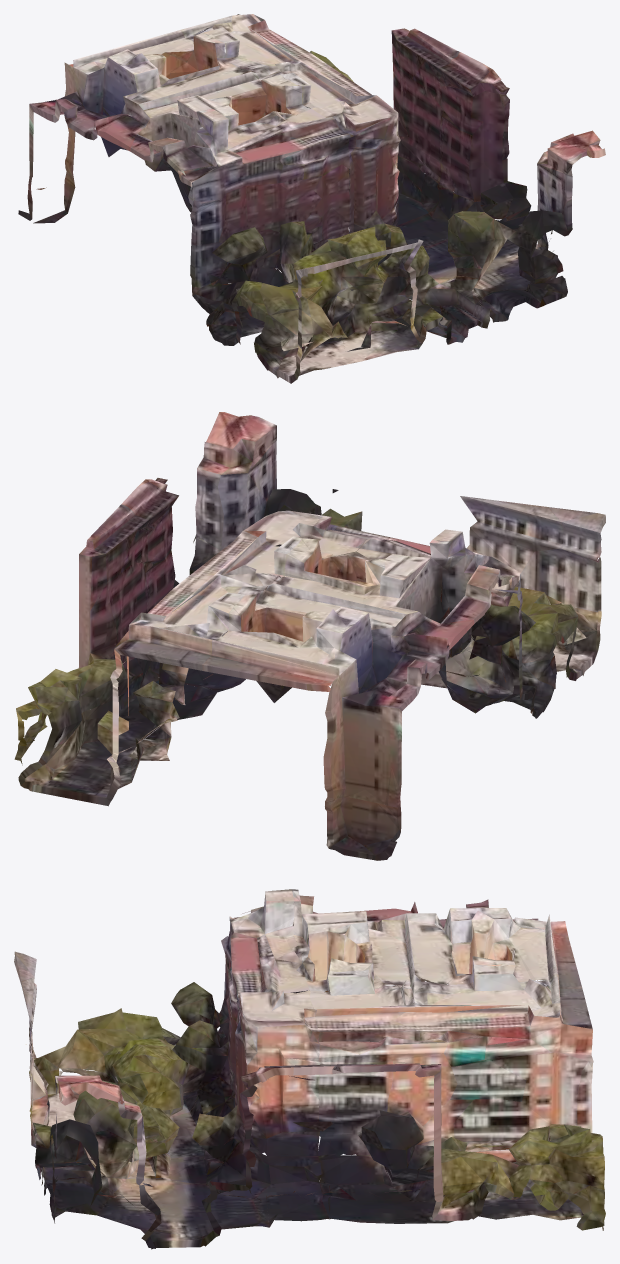
3 views of the same model, one above another, from view 1: azimuth 30°, elevation 25°; view 2: azimuth 150°, elevation 25°; view 3: azimuth 270°, elevation 25° (orthographic). The views are drawn at different scales.
Parts seen in each view (by area): view 1: Mesh_0; view 2: Mesh_0; view 3: Mesh_0.
Boxes of the visible parts, bbox=[...] form: Mesh_0: bbox=[18, 14, 605, 383]; Mesh_0: bbox=[14, 412, 605, 860]; Mesh_0: bbox=[14, 889, 605, 1249].
Bounding box in the file's own units: 67.5 × 32.97 × 82.61.
Materials: 1 (1 with a texture image).
